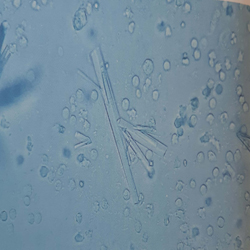Crystal: (88, 45, 149, 206), (114, 115, 173, 175), (72, 129, 93, 150)
